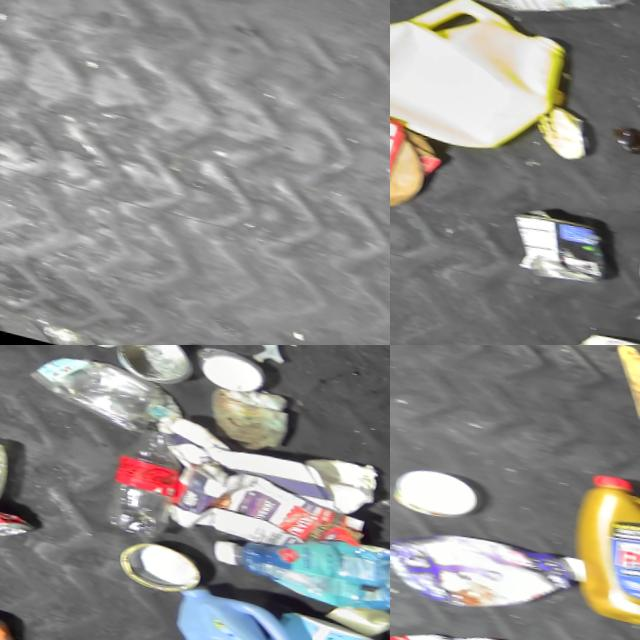can: (504, 191, 617, 283), (109, 345, 194, 382), (0, 490, 28, 542)
milk_jug: (390, 0, 572, 162)
non_white_jug: (390, 506, 588, 622), (210, 495, 390, 610), (569, 455, 640, 634), (162, 574, 332, 640), (390, 596, 554, 640)
plastic_bottle: (102, 403, 194, 534), (424, 0, 640, 30)
